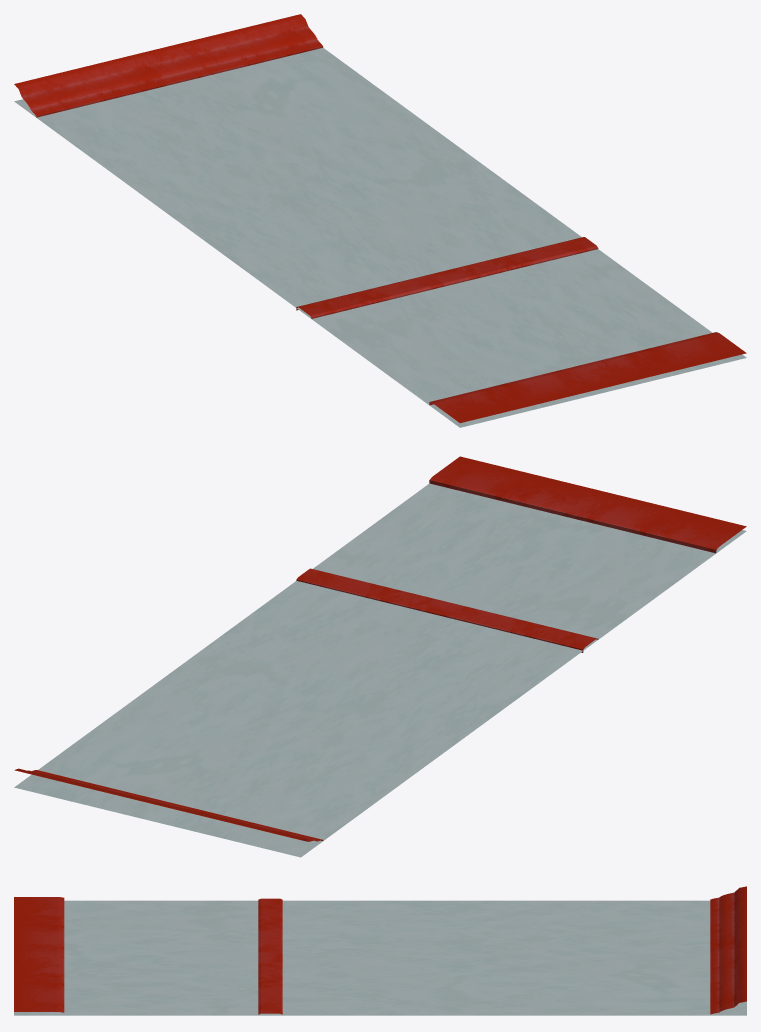
File: tier_2.2_wall.fbx
3 views of the same model, one above another, from view 1: azimuth 30°, elevation 25°; view 2: azimuth 150°, elevation 25°; view 3: azimuth 270°, elevation 25° (orthographic). The views are drawn at different scales.
Parts seen in each view (by area): view 1: tier_2.2_wall; view 2: tier_2.2_wall; view 3: tier_2.2_wall.
Part boxes in pixels (bbox=[...]): tier_2.2_wall: bbox=[14, 14, 746, 427]; tier_2.2_wall: bbox=[14, 456, 746, 857]; tier_2.2_wall: bbox=[14, 886, 746, 1015].
Size of the model in its own units: 260 by 17 by 700.
Materials: 1 (1 with a texture image).
